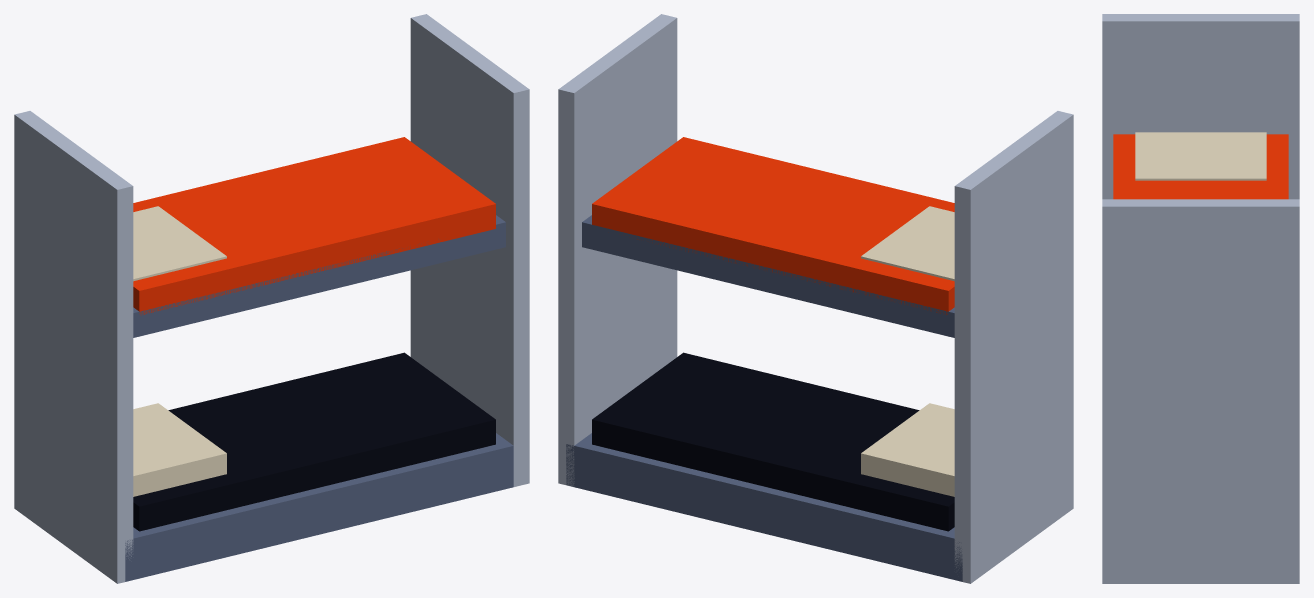
Rendered from crew_bunk.obj.
3 views of the same model, side by side, from view 1: azimuth 30°, elevation 25°; view 2: azimuth 150°, elevation 25°; view 3: azimuth 270°, elevation 25° (orthographic). The views are drawn at different scales.
Parts seen in each view (by area): view 1: crew_bunk; view 2: crew_bunk; view 3: crew_bunk.
Part boxes in pixels (box(x1,y1,x2,y2)): crew_bunk: box(14, 14, 529, 583); crew_bunk: box(558, 14, 1073, 583); crew_bunk: box(1102, 14, 1299, 583).
Size of the model in its own units: 2.08 by 1.9 by 0.9.
